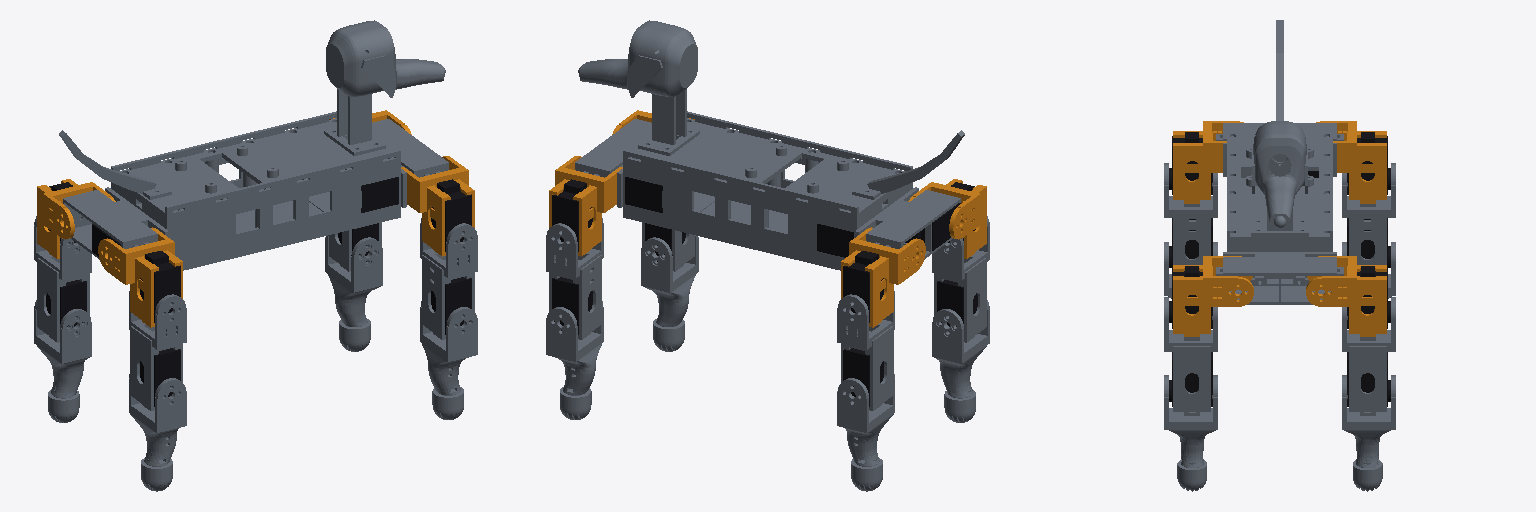
URDF robot description (smalldog):
<?xml version="1.0"?>
<!-- generated by smalldog_description/scripts/generate_model.py -->
<robot name="smalldog">
  <material name="grey"><color rgba="0.45 0.48 0.52 1"/></material>
  <material name="orange"><color rgba="0.85 0.55 0.15 1"/></material>
  <material name="servo"><color rgba="0.12 0.12 0.14 1"/></material>
  <link name="base_link">
    <inertial>
      <origin xyz="0.000034 0.000031 0.014371" rpy="0 0 0"/>
      <mass value="1.46793"/>
      <inertia ixx="0.00263926" ixy="0.00000000" ixz="0.00008650" iyy="0.01032290" iyz="-0.00000116" izz="0.01036087"/>
    </inertial>
    <visual>
      <origin xyz="0 0 0" rpy="0 0 0"/>
      <geometry><mesh filename="package://smalldog_description/meshes/base_link.stl" scale="0.001 0.001 0.001"/></geometry>
      <material name="grey"/>
    </visual>
    <visual>
      <origin xyz="0 0 0" rpy="0 0 0"/>
      <geometry><mesh filename="package://smalldog_description/meshes/fl_roll_servo.stl" scale="0.001 0.001 0.001"/></geometry>
      <material name="servo"/>
    </visual>
    <visual>
      <origin xyz="0 0 0" rpy="0 0 0"/>
      <geometry><mesh filename="package://smalldog_description/meshes/fr_roll_servo.stl" scale="0.001 0.001 0.001"/></geometry>
      <material name="servo"/>
    </visual>
    <visual>
      <origin xyz="0 0 0" rpy="0 0 0"/>
      <geometry><mesh filename="package://smalldog_description/meshes/rl_roll_servo.stl" scale="0.001 0.001 0.001"/></geometry>
      <material name="servo"/>
    </visual>
    <visual>
      <origin xyz="0 0 0" rpy="0 0 0"/>
      <geometry><mesh filename="package://smalldog_description/meshes/rr_roll_servo.stl" scale="0.001 0.001 0.001"/></geometry>
      <material name="servo"/>
    </visual>
    <collision><origin xyz="0.0000 0.0000 0.0020" rpy="0 0 0"/><geometry><box size="0.2200 0.0920 0.0540"/></geometry></collision>
    <collision><origin xyz="0.0000 0.0000 0.0000" rpy="0 0 0"/><geometry><box size="0.3070 0.0982 0.0307"/></geometry></collision>
  </link>
  <link name="fl_hip">
    <inertial>
      <origin xyz="0.000203 0.009219 -0.015260" rpy="0 0 0"/>
      <mass value="0.09005"/>
      <inertia ixx="0.00005179" ixy="-0.00000026" ixz="-0.00000028" iyy="0.00003278" iyz="0.00000064" izz="0.00004057"/>
    </inertial>
    <visual>
      <origin xyz="0 0 0" rpy="0 0 0"/>
      <geometry><mesh filename="package://smalldog_description/meshes/fl_hip.stl" scale="0.001 0.001 0.001"/></geometry>
      <material name="orange"/>
    </visual>
    <visual>
      <origin xyz="0 0 0" rpy="0 0 0"/>
      <geometry><mesh filename="package://smalldog_description/meshes/fl_pitch_servo.stl" scale="0.001 0.001 0.001"/></geometry>
      <material name="servo"/>
    </visual>
    <collision><origin xyz="0.0000 0.0400 -0.0475" rpy="0 0 0"/><geometry><box size="0.0307 0.0330 0.0512"/></geometry></collision>
  </link>
  <link name="fl_thigh">
    <inertial>
      <origin xyz="0.000016 0.000208 -0.053672" rpy="0 0 0"/>
      <mass value="0.09697"/>
      <inertia ixx="0.00006650" ixy="0.00000000" ixz="-0.00000002" iyy="0.00005956" iyz="-0.00000052" izz="0.00002098"/>
    </inertial>
    <visual>
      <origin xyz="0 0 0" rpy="0 0 0"/>
      <geometry><mesh filename="package://smalldog_description/meshes/fl_thigh.stl" scale="0.001 0.001 0.001"/></geometry>
      <material name="grey"/>
    </visual>
    <visual>
      <origin xyz="0 0 0" rpy="0 0 0"/>
      <geometry><mesh filename="package://smalldog_description/meshes/fl_knee_servo.stl" scale="0.001 0.001 0.001"/></geometry>
      <material name="servo"/>
    </visual>
    <collision><origin xyz="0.0000 0.0000 -0.0440" rpy="0 0 0"/><geometry><box size="0.0307 0.0330 0.0700"/></geometry></collision>
  </link>
  <link name="fl_shin">
    <inertial>
      <origin xyz="-0.000000 0.000502 -0.029339" rpy="0 0 0"/>
      <mass value="0.03680"/>
      <inertia ixx="0.00001659" ixy="0.00000000" ixz="0.00000000" iyy="0.00001173" iyz="-0.00000014" izz="0.00000897"/>
    </inertial>
    <visual>
      <origin xyz="0 0 0" rpy="0 0 0"/>
      <geometry><mesh filename="package://smalldog_description/meshes/fl_shin.stl" scale="0.001 0.001 0.001"/></geometry>
      <material name="grey"/>
    </visual>
    <collision><origin xyz="0.0000 0.0000 -0.0250" rpy="0 0 0"/><geometry><cylinder radius="0.0120" length="0.0340"/></geometry></collision>
    <collision><origin xyz="0.0000 0.0000 -0.0550" rpy="0 0 0"/><geometry><sphere radius="0.0130"/></geometry></collision>
  </link>
  <link name="fr_hip">
    <inertial>
      <origin xyz="0.000203 -0.009219 -0.015260" rpy="0 0 0"/>
      <mass value="0.09005"/>
      <inertia ixx="0.00005179" ixy="0.00000026" ixz="-0.00000028" iyy="0.00003278" iyz="-0.00000064" izz="0.00004057"/>
    </inertial>
    <visual>
      <origin xyz="0 0 0" rpy="0 0 0"/>
      <geometry><mesh filename="package://smalldog_description/meshes/fr_hip.stl" scale="0.001 0.001 0.001"/></geometry>
      <material name="orange"/>
    </visual>
    <visual>
      <origin xyz="0 0 0" rpy="0 0 0"/>
      <geometry><mesh filename="package://smalldog_description/meshes/fr_pitch_servo.stl" scale="0.001 0.001 0.001"/></geometry>
      <material name="servo"/>
    </visual>
    <collision><origin xyz="0.0000 -0.0400 -0.0475" rpy="0 0 0"/><geometry><box size="0.0307 0.0330 0.0512"/></geometry></collision>
  </link>
  <link name="fr_thigh">
    <inertial>
      <origin xyz="0.000016 -0.000208 -0.053672" rpy="0 0 0"/>
      <mass value="0.09697"/>
      <inertia ixx="0.00006650" ixy="-0.00000000" ixz="-0.00000002" iyy="0.00005956" iyz="0.00000052" izz="0.00002098"/>
    </inertial>
    <visual>
      <origin xyz="0 0 0" rpy="0 0 0"/>
      <geometry><mesh filename="package://smalldog_description/meshes/fr_thigh.stl" scale="0.001 0.001 0.001"/></geometry>
      <material name="grey"/>
    </visual>
    <visual>
      <origin xyz="0 0 0" rpy="0 0 0"/>
      <geometry><mesh filename="package://smalldog_description/meshes/fr_knee_servo.stl" scale="0.001 0.001 0.001"/></geometry>
      <material name="servo"/>
    </visual>
    <collision><origin xyz="0.0000 0.0000 -0.0440" rpy="0 0 0"/><geometry><box size="0.0307 0.0330 0.0700"/></geometry></collision>
  </link>
  <link name="fr_shin">
    <inertial>
      <origin xyz="-0.000000 -0.000502 -0.029339" rpy="0 0 0"/>
      <mass value="0.03680"/>
      <inertia ixx="0.00001659" ixy="-0.00000000" ixz="0.00000000" iyy="0.00001173" iyz="0.00000014" izz="0.00000897"/>
    </inertial>
    <visual>
      <origin xyz="0 0 0" rpy="0 0 0"/>
      <geometry><mesh filename="package://smalldog_description/meshes/fr_shin.stl" scale="0.001 0.001 0.001"/></geometry>
      <material name="grey"/>
    </visual>
    <collision><origin xyz="0.0000 0.0000 -0.0250" rpy="0 0 0"/><geometry><cylinder radius="0.0120" length="0.0340"/></geometry></collision>
    <collision><origin xyz="0.0000 0.0000 -0.0550" rpy="0 0 0"/><geometry><sphere radius="0.0130"/></geometry></collision>
  </link>
  <link name="rl_hip">
    <inertial>
      <origin xyz="-0.000203 0.009219 -0.015260" rpy="0 0 0"/>
      <mass value="0.09005"/>
      <inertia ixx="0.00005179" ixy="0.00000026" ixz="0.00000028" iyy="0.00003278" iyz="0.00000064" izz="0.00004057"/>
    </inertial>
    <visual>
      <origin xyz="0 0 0" rpy="0 0 0"/>
      <geometry><mesh filename="package://smalldog_description/meshes/rl_hip.stl" scale="0.001 0.001 0.001"/></geometry>
      <material name="orange"/>
    </visual>
    <visual>
      <origin xyz="0 0 0" rpy="0 0 0"/>
      <geometry><mesh filename="package://smalldog_description/meshes/rl_pitch_servo.stl" scale="0.001 0.001 0.001"/></geometry>
      <material name="servo"/>
    </visual>
    <collision><origin xyz="0.0000 0.0400 -0.0475" rpy="0 0 0"/><geometry><box size="0.0307 0.0330 0.0512"/></geometry></collision>
  </link>
  <link name="rl_thigh">
    <inertial>
      <origin xyz="-0.000016 0.000208 -0.053672" rpy="0 0 0"/>
      <mass value="0.09697"/>
      <inertia ixx="0.00006650" ixy="-0.00000000" ixz="0.00000002" iyy="0.00005956" iyz="-0.00000052" izz="0.00002098"/>
    </inertial>
    <visual>
      <origin xyz="0 0 0" rpy="0 0 0"/>
      <geometry><mesh filename="package://smalldog_description/meshes/rl_thigh.stl" scale="0.001 0.001 0.001"/></geometry>
      <material name="grey"/>
    </visual>
    <visual>
      <origin xyz="0 0 0" rpy="0 0 0"/>
      <geometry><mesh filename="package://smalldog_description/meshes/rl_knee_servo.stl" scale="0.001 0.001 0.001"/></geometry>
      <material name="servo"/>
    </visual>
    <collision><origin xyz="0.0000 0.0000 -0.0440" rpy="0 0 0"/><geometry><box size="0.0307 0.0330 0.0700"/></geometry></collision>
  </link>
  <link name="rl_shin">
    <inertial>
      <origin xyz="0.000000 0.000502 -0.029339" rpy="0 0 0"/>
      <mass value="0.03680"/>
      <inertia ixx="0.00001659" ixy="-0.00000000" ixz="-0.00000000" iyy="0.00001173" iyz="-0.00000014" izz="0.00000897"/>
    </inertial>
    <visual>
      <origin xyz="0 0 0" rpy="0 0 0"/>
      <geometry><mesh filename="package://smalldog_description/meshes/rl_shin.stl" scale="0.001 0.001 0.001"/></geometry>
      <material name="grey"/>
    </visual>
    <collision><origin xyz="0.0000 0.0000 -0.0250" rpy="0 0 0"/><geometry><cylinder radius="0.0120" length="0.0340"/></geometry></collision>
    <collision><origin xyz="0.0000 0.0000 -0.0550" rpy="0 0 0"/><geometry><sphere radius="0.0130"/></geometry></collision>
  </link>
  <link name="rr_hip">
    <inertial>
      <origin xyz="-0.000203 -0.009219 -0.015260" rpy="0 0 0"/>
      <mass value="0.09005"/>
      <inertia ixx="0.00005179" ixy="-0.00000026" ixz="0.00000028" iyy="0.00003278" iyz="-0.00000064" izz="0.00004057"/>
    </inertial>
    <visual>
      <origin xyz="0 0 0" rpy="0 0 0"/>
      <geometry><mesh filename="package://smalldog_description/meshes/rr_hip.stl" scale="0.001 0.001 0.001"/></geometry>
      <material name="orange"/>
    </visual>
    <visual>
      <origin xyz="0 0 0" rpy="0 0 0"/>
      <geometry><mesh filename="package://smalldog_description/meshes/rr_pitch_servo.stl" scale="0.001 0.001 0.001"/></geometry>
      <material name="servo"/>
    </visual>
    <collision><origin xyz="0.0000 -0.0400 -0.0475" rpy="0 0 0"/><geometry><box size="0.0307 0.0330 0.0512"/></geometry></collision>
  </link>
  <link name="rr_thigh">
    <inertial>
      <origin xyz="-0.000016 -0.000208 -0.053672" rpy="0 0 0"/>
      <mass value="0.09697"/>
      <inertia ixx="0.00006650" ixy="0.00000000" ixz="0.00000002" iyy="0.00005956" iyz="0.00000052" izz="0.00002098"/>
    </inertial>
    <visual>
      <origin xyz="0 0 0" rpy="0 0 0"/>
      <geometry><mesh filename="package://smalldog_description/meshes/rr_thigh.stl" scale="0.001 0.001 0.001"/></geometry>
      <material name="grey"/>
    </visual>
    <visual>
      <origin xyz="0 0 0" rpy="0 0 0"/>
      <geometry><mesh filename="package://smalldog_description/meshes/rr_knee_servo.stl" scale="0.001 0.001 0.001"/></geometry>
      <material name="servo"/>
    </visual>
    <collision><origin xyz="0.0000 0.0000 -0.0440" rpy="0 0 0"/><geometry><box size="0.0307 0.0330 0.0700"/></geometry></collision>
  </link>
  <link name="rr_shin">
    <inertial>
      <origin xyz="0.000000 -0.000502 -0.029339" rpy="0 0 0"/>
      <mass value="0.03680"/>
      <inertia ixx="0.00001659" ixy="0.00000000" ixz="-0.00000000" iyy="0.00001173" iyz="0.00000014" izz="0.00000897"/>
    </inertial>
    <visual>
      <origin xyz="0 0 0" rpy="0 0 0"/>
      <geometry><mesh filename="package://smalldog_description/meshes/rr_shin.stl" scale="0.001 0.001 0.001"/></geometry>
      <material name="grey"/>
    </visual>
    <collision><origin xyz="0.0000 0.0000 -0.0250" rpy="0 0 0"/><geometry><cylinder radius="0.0120" length="0.0340"/></geometry></collision>
    <collision><origin xyz="0.0000 0.0000 -0.0550" rpy="0 0 0"/><geometry><sphere radius="0.0130"/></geometry></collision>
  </link>
  <joint name="fl_roll" type="revolute">
    <parent link="base_link"/>
    <child link="fl_hip"/>
    <origin xyz="0.13700 0.03600 0.00000" rpy="0 0 0"/>
    <axis xyz="1 0 0"/>
    <limit lower="-1.5708" upper="1.5708" effort="3.2" velocity="3.86"/>
  </joint>
  <joint name="fl_pitch" type="revolute">
    <parent link="fl_hip"/>
    <child link="fl_thigh"/>
    <origin xyz="0.00000 0.04000 -0.03000" rpy="0 0 0"/>
    <axis xyz="0 1 0"/>
    <limit lower="-1.5708" upper="1.5708" effort="3.2" velocity="3.86"/>
  </joint>
  <joint name="fl_knee" type="revolute">
    <parent link="fl_thigh"/>
    <child link="fl_shin"/>
    <origin xyz="0.00000 0.00000 -0.07500" rpy="0 0 0"/>
    <axis xyz="0 1 0"/>
    <limit lower="-1.9199" upper="1.9199" effort="3.2" velocity="3.86"/>
  </joint>
  <joint name="fr_roll" type="revolute">
    <parent link="base_link"/>
    <child link="fr_hip"/>
    <origin xyz="0.13700 -0.03600 0.00000" rpy="0 0 0"/>
    <axis xyz="1 0 0"/>
    <limit lower="-1.5708" upper="1.5708" effort="3.2" velocity="3.86"/>
  </joint>
  <joint name="fr_pitch" type="revolute">
    <parent link="fr_hip"/>
    <child link="fr_thigh"/>
    <origin xyz="0.00000 -0.04000 -0.03000" rpy="0 0 0"/>
    <axis xyz="0 1 0"/>
    <limit lower="-1.5708" upper="1.5708" effort="3.2" velocity="3.86"/>
  </joint>
  <joint name="fr_knee" type="revolute">
    <parent link="fr_thigh"/>
    <child link="fr_shin"/>
    <origin xyz="0.00000 0.00000 -0.07500" rpy="0 0 0"/>
    <axis xyz="0 1 0"/>
    <limit lower="-1.9199" upper="1.9199" effort="3.2" velocity="3.86"/>
  </joint>
  <joint name="rl_roll" type="revolute">
    <parent link="base_link"/>
    <child link="rl_hip"/>
    <origin xyz="-0.13700 0.03600 0.00000" rpy="0 0 0"/>
    <axis xyz="1 0 0"/>
    <limit lower="-1.5708" upper="1.5708" effort="3.2" velocity="3.86"/>
  </joint>
  <joint name="rl_pitch" type="revolute">
    <parent link="rl_hip"/>
    <child link="rl_thigh"/>
    <origin xyz="0.00000 0.04000 -0.03000" rpy="0 0 0"/>
    <axis xyz="0 1 0"/>
    <limit lower="-1.5708" upper="1.5708" effort="3.2" velocity="3.86"/>
  </joint>
  <joint name="rl_knee" type="revolute">
    <parent link="rl_thigh"/>
    <child link="rl_shin"/>
    <origin xyz="0.00000 0.00000 -0.07500" rpy="0 0 0"/>
    <axis xyz="0 1 0"/>
    <limit lower="-1.9199" upper="1.9199" effort="3.2" velocity="3.86"/>
  </joint>
  <joint name="rr_roll" type="revolute">
    <parent link="base_link"/>
    <child link="rr_hip"/>
    <origin xyz="-0.13700 -0.03600 0.00000" rpy="0 0 0"/>
    <axis xyz="1 0 0"/>
    <limit lower="-1.5708" upper="1.5708" effort="3.2" velocity="3.86"/>
  </joint>
  <joint name="rr_pitch" type="revolute">
    <parent link="rr_hip"/>
    <child link="rr_thigh"/>
    <origin xyz="0.00000 -0.04000 -0.03000" rpy="0 0 0"/>
    <axis xyz="0 1 0"/>
    <limit lower="-1.5708" upper="1.5708" effort="3.2" velocity="3.86"/>
  </joint>
  <joint name="rr_knee" type="revolute">
    <parent link="rr_thigh"/>
    <child link="rr_shin"/>
    <origin xyz="0.00000 0.00000 -0.07500" rpy="0 0 0"/>
    <axis xyz="0 1 0"/>
    <limit lower="-1.9199" upper="1.9199" effort="3.2" velocity="3.86"/>
  </joint>
  <link name="camera_link"/>
  <joint name="camera_joint" type="fixed">
    <parent link="base_link"/><child link="camera_link"/>
    <origin xyz="0.112 0 0.104" rpy="1.5708 -0 0"/>
  </joint>
  <link name="camera_optical_frame"/>
  <joint name="camera_optical_joint" type="fixed">
    <parent link="camera_link"/><child link="camera_optical_frame"/>
    <origin xyz="0 0 0" rpy="-1.5708 0 -1.5708"/>
  </joint>
</robot>

--- Facts derived from the render (not from the file) ---
The picture shows the robot from 3 angles, left to right: view 1: azimuth 30°, elevation 25°; view 2: azimuth 150°, elevation 25°; view 3: azimuth 270°, elevation 25°; orthographic projection.
Model smalldog with 15 links and 14 joints (12 revolute, 2 fixed), rooted at base_link, posed all joints at 0.
Links seen in each view (by area): view 1: base_link, rr_thigh, fr_thigh, rr_hip, rl_thigh, fr_hip, fl_shin, fr_shin, rl_shin, rr_shin, rl_hip, fl_thigh; view 2: base_link, rl_thigh, fl_thigh, rl_hip, rr_thigh, fl_hip, fr_shin, fl_shin, rr_shin, rl_shin, rr_hip, fr_thigh; view 3: base_link, fl_hip, fr_hip, fl_thigh, fr_thigh, rl_hip, rr_hip, rl_thigh, rr_thigh, fl_shin, fr_shin.
Boxes of the visible links, x1=… form: base_link: x1=59, y1=20, x2=448, y2=270; rr_thigh: x1=129, y1=291, x2=186, y2=410; fr_thigh: x1=420, y1=218, x2=477, y2=339; rr_hip: x1=98, y1=227, x2=182, y2=327; rl_thigh: x1=34, y1=216, x2=91, y2=342; fr_hip: x1=401, y1=156, x2=474, y2=256; fl_shin: x1=325, y1=235, x2=382, y2=351; fr_shin: x1=420, y1=301, x2=477, y2=419; rl_shin: x1=34, y1=300, x2=91, y2=422; rr_shin: x1=129, y1=374, x2=186, y2=491; rl_hip: x1=37, y1=179, x2=115, y2=258; fl_thigh: x1=329, y1=222, x2=381, y2=271; base_link: x1=575, y1=20, x2=964, y2=270; rl_thigh: x1=837, y1=291, x2=894, y2=410; fl_thigh: x1=546, y1=218, x2=603, y2=339; rl_hip: x1=841, y1=227, x2=925, y2=327; rr_thigh: x1=932, y1=216, x2=989, y2=342; fl_hip: x1=549, y1=156, x2=622, y2=256; fr_shin: x1=641, y1=235, x2=698, y2=351; fl_shin: x1=546, y1=301, x2=603, y2=419; rr_shin: x1=932, y1=300, x2=989, y2=422; rl_shin: x1=837, y1=374, x2=894, y2=491; rr_hip: x1=908, y1=179, x2=986, y2=258; fr_thigh: x1=642, y1=222, x2=694, y2=271; base_link: x1=1216, y1=20, x2=1343, y2=304; fl_hip: x1=1306, y1=256, x2=1390, y2=336; fr_hip: x1=1169, y1=256, x2=1253, y2=336; fl_thigh: x1=1342, y1=297, x2=1395, y2=415; fr_thigh: x1=1164, y1=297, x2=1217, y2=415; rl_hip: x1=1316, y1=121, x2=1390, y2=203; rr_hip: x1=1169, y1=121, x2=1243, y2=203; rl_thigh: x1=1342, y1=163, x2=1395, y2=269; rr_thigh: x1=1164, y1=163, x2=1217, y2=269; fl_shin: x1=1342, y1=375, x2=1395, y2=491; fr_shin: x1=1164, y1=375, x2=1217, y2=491.
Size in the robot's own frame: 0.3613 by 0.2006 by 0.3286 metres.
Meshes: 25 distinct files referenced, 25 mesh visuals loaded (25 binary STL).
